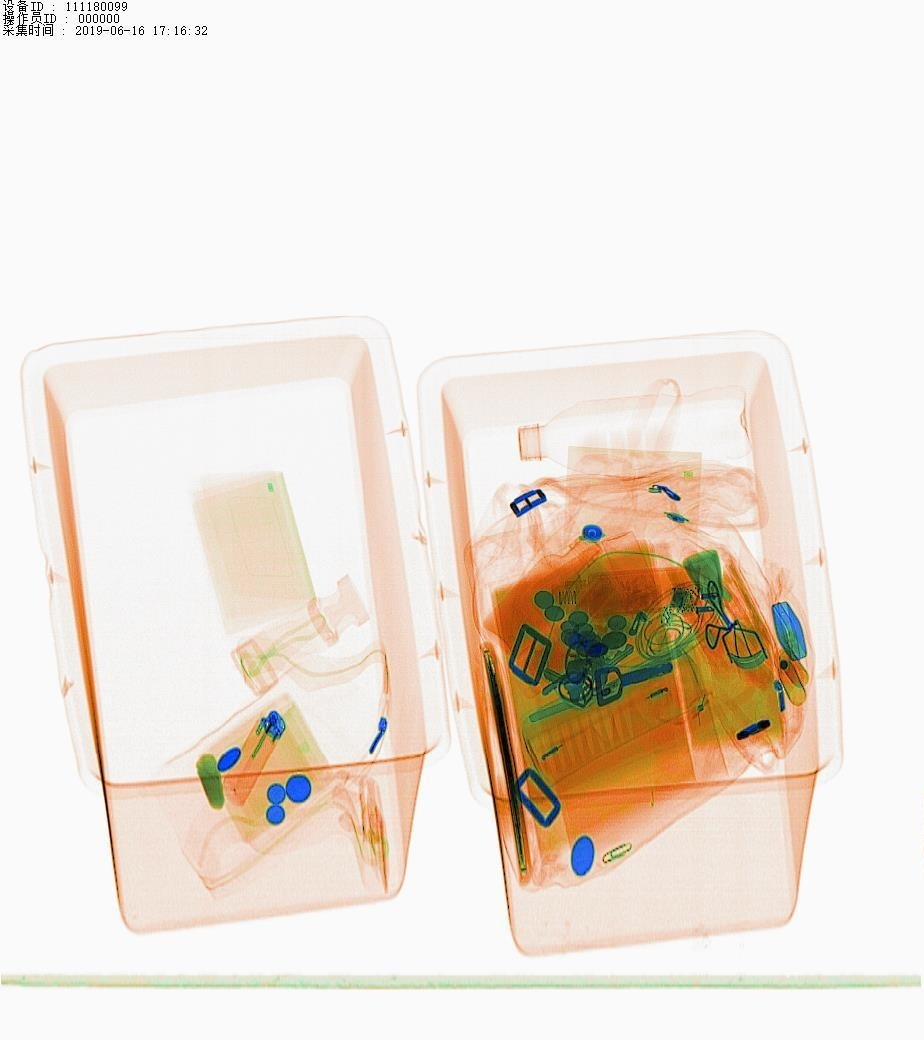NonmetallicFire: (217, 700, 302, 823)
